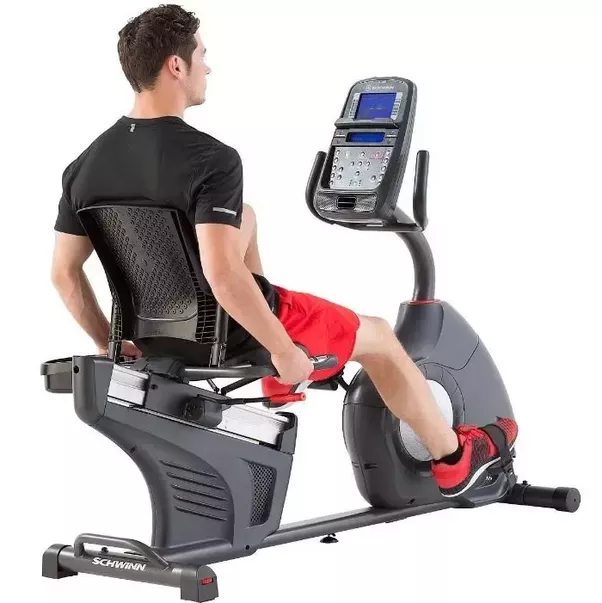gym_bike: (28, 69, 589, 599)
